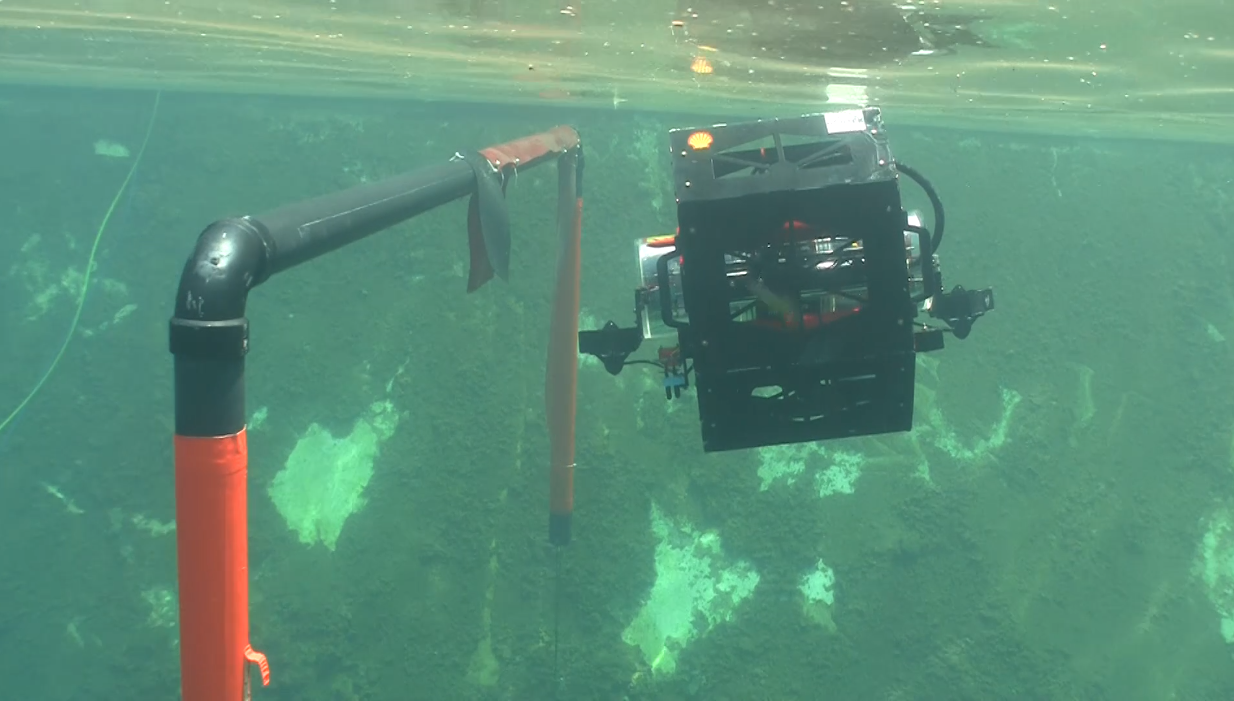gate: (164, 108, 609, 701)
